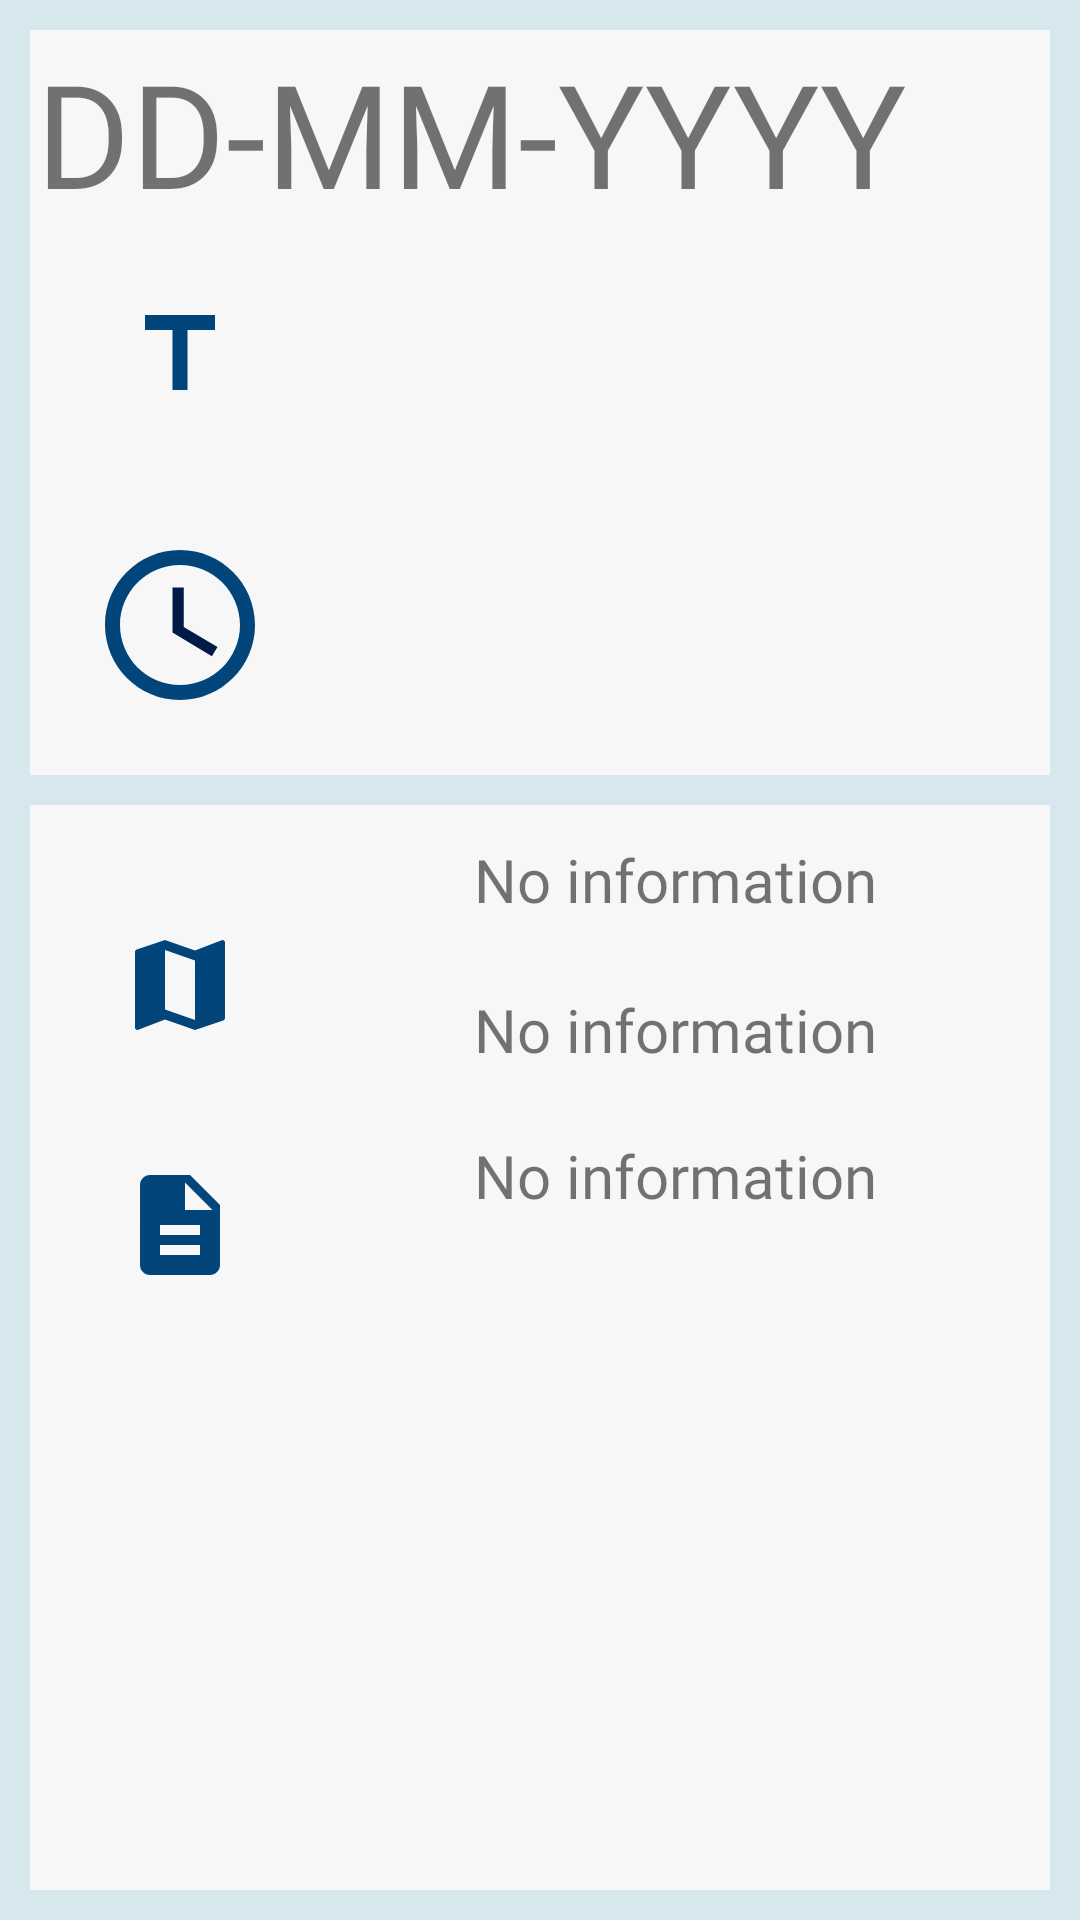

Where to tap for icons on this 1080px×1920px app screen, as (x=x, y=y):
description: (x=180, y=1225)
map: (x=180, y=985)
schedule: (x=180, y=625)
title: (x=180, y=352)
